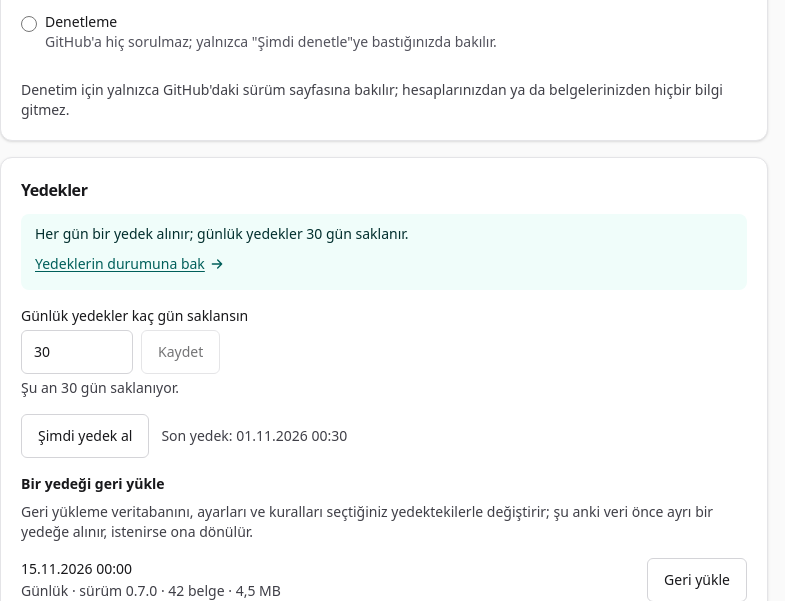
Scenario: SettingsPage › says why a backup could not be asked for, and the same button asks again
(page scrolled)
Click the button "Şimdi yedek al" at coordinates (85, 436), box [21,414,149,458]
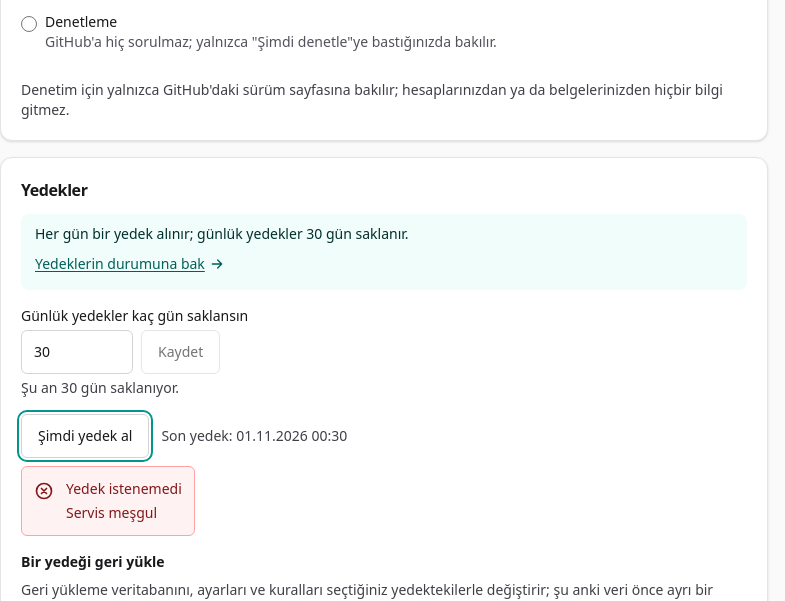
Now the text "Servis meşgul" is shown, box [66,503,157,522]
Click the button "Şimdi yedek al" at coordinates (85, 436), box [21,414,149,458]
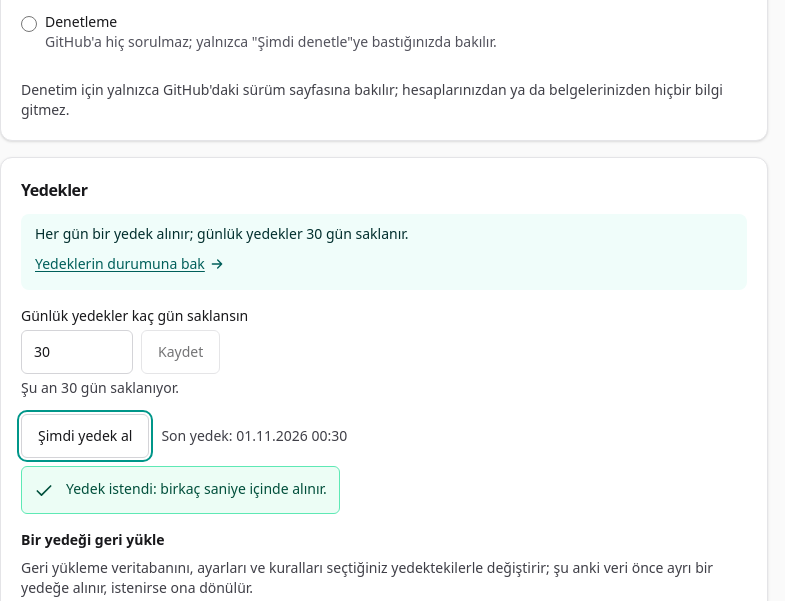
Now the text "Yedek istendi: birkaç saniye içinde alınır." is shown, box [66,479,327,499]
